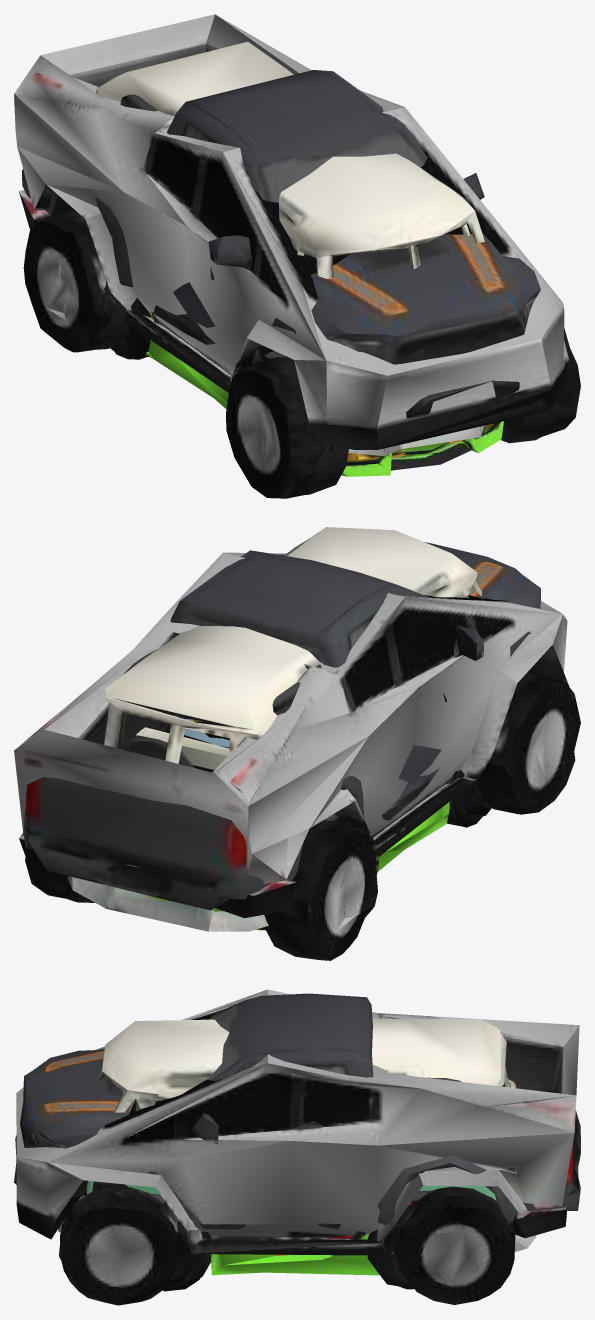
File: office-cars.glb
The picture shows the model from 3 angles, top to bottom: view 1: azimuth 30°, elevation 25°; view 2: azimuth 150°, elevation 25°; view 3: azimuth 270°, elevation 25°; orthographic projection. The views are drawn at different scales.
Visible parts, largest first — view 1: car_cybertruck, car_raptor, car_vwbus, car_supercar, car_gwagon; view 2: car_cybertruck, car_raptor, car_vwbus, car_gwagon, car_supercar; view 3: car_cybertruck, car_raptor, car_vwbus, car_supercar, car_gwagon.
Boxes of the visible parts, x1,y1,x2,y2 form: car_cybertruck: (14,14,580,498); car_raptor: (22,70,562,494); car_vwbus: (96,41,487,455); car_supercar: (110,313,503,476); car_gwagon: (112,58,294,360); car_cybertruck: (14,552,580,960); car_raptor: (23,542,540,910); car_vwbus: (67,527,482,931); car_gwagon: (119,637,491,821); car_supercar: (105,777,483,929); car_cybertruck: (16,989,579,1305); car_raptor: (14,993,580,1276); car_vwbus: (58,1018,536,1251); car_supercar: (162,1233,393,1291); car_gwagon: (92,1077,461,1289).
Size of the model in its own units: 2.62 by 2.37 by 5.29.
Materials: 7 (7 with a texture image).
